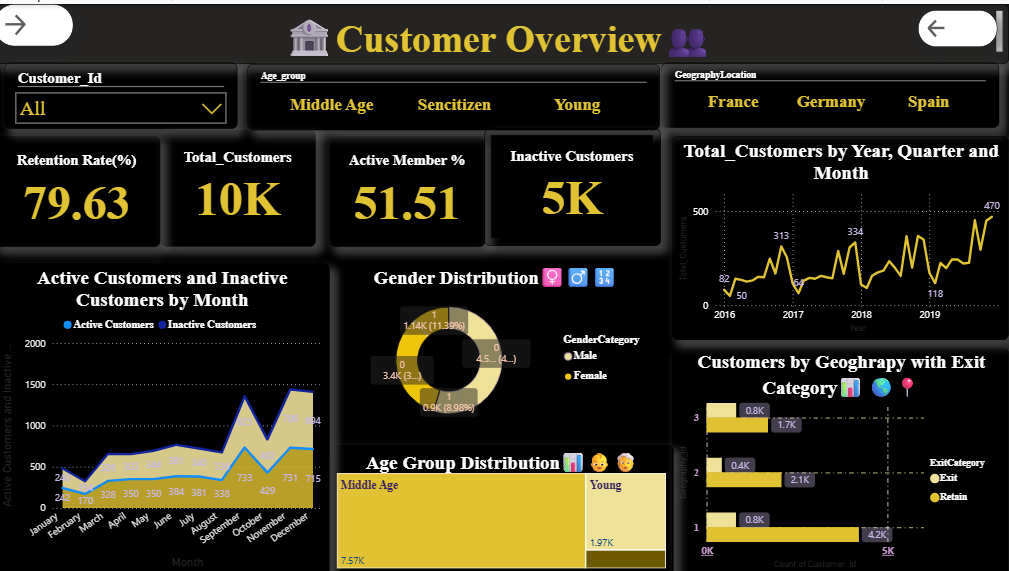

The dashboard page shown, as its layout file describes it:
{"tool":"powerbi","page":{"name":"Customer OverView","canvas":[1280,720],"ordinal":1},"visuals":[{"type":"cardVisual","fields":{"Data":["Bank_Churn.Total_Customers"]},"box":[209.2,159,195.3,146.4],"z":0},{"type":"cardVisual","fields":{"Data":["Bank_Churn.Retention Rate(%)"]},"box":[0,166,209.2,139.5],"z":1000},{"type":"textbox","box":[0,0,1280.3,75.5],"z":2000},{"type":"donutChart","title":"Gender Distribution♀️♂️🔢","fields":{"Category":["Gender.GenderCategory"],"Y":["CountNonNull(Bank_Churn.Customer_Id)"],"Series":["Bank_Churn.Exit_Id"]},"box":[422.6,326.3,417,216.2],"z":3000},{"type":"clusteredBarChart","title":"Customers by Geoghrapy with Exit Category📊 🌎📍","fields":{"Category":["Geography.Geography_Id"],"Y":["CountNonNull(Bank_Churn.Customer_Id)"],"Series":["ExitCustomer.ExitCategory"]},"box":[854.9,432.3,425.4,287.3],"z":4000},{"type":"treemap","title":"Age Group Distribution📊👶🧑🦳","fields":{"Group":["Bank_Churn.Age_group"],"Values":["CountNonNull(Bank_Churn.Customer_Id)"]},"box":[422.6,555.1,432.3,164.6],"z":5000},{"type":"slicer","fields":{"Values":["CustomerInfo.Customer_Id"]},"box":[13.9,73.6,293.1,83.3],"z":6000},{"type":"slicer","fields":{"Values":["Geography.GeographyLocation"]},"box":[840.3,73.6,425,81.9],"z":9000},{"type":"cardVisual","fields":{"Data":["Bank_Churn.Active Member %"]},"box":[422.6,166,195.3,139.5],"z":10000},{"type":"slicer","fields":{"Values":["Bank_Churn.Age_group"]},"box":[319.4,75,519.4,83.3],"z":11000},{"type":"lineChart","fields":{"Y":["Bank_Churn.Total_Customers"],"Category":["Bank_Churn.Bank DOJ.Variation.Date Hierarchy.Year","Bank_Churn.Bank DOJ.Variation.Date Hierarchy.Quarter","Bank_Churn.Bank DOJ.Variation.Date Hierarchy.Month"]},"box":[854.9,166,425.4,256.6],"z":12000},{"type":"stackedAreaChart","fields":{"Y":["Bank_Churn.Active Customers","Bank_Churn.Inactive Customers"],"Category":["Bank_Churn.Bank DOJ.Variation.Date Hierarchy.Month"]},"box":[0,326.3,422.6,393.3],"z":13000},{"type":"cardVisual","fields":{"Data":["Bank_Churn.Inactive Customers"]},"box":[617.8,156.2,221.7,147.8],"z":14000},{"type":"actionButton","box":[0,0,100.2,53.5],"z":15000},{"type":"actionButton","box":[1165,6.9,100.2,46.7],"z":16000}]}

Visuals, with their boxes in screenshot pixels (x1, y1, x2, y2), scaled from the page's 1280x720 canvas onto the 1009x571 screenshot:
cardVisual - Bank_Churn.Total_Customers: (x1=165, y1=126, x2=319, y2=242)
cardVisual - Bank_Churn.Retention Rate(%): (x1=0, y1=132, x2=165, y2=242)
textbox: (x1=0, y1=0, x2=1008, y2=60)
"Gender Distribution♀️♂️🔢" donutChart: (x1=333, y1=259, x2=662, y2=430)
"Customers by Geoghrapy with Exit Category📊 🌎📍" clusteredBarChart: (x1=674, y1=343, x2=1008, y2=570)
"Age Group Distribution📊👶🧑🦳" treemap: (x1=333, y1=440, x2=674, y2=570)
slicer - CustomerInfo.Customer_Id: (x1=11, y1=58, x2=242, y2=124)
slicer - Geography.GeographyLocation: (x1=662, y1=58, x2=997, y2=123)
cardVisual - Bank_Churn.Active Member %: (x1=333, y1=132, x2=487, y2=242)
slicer - Bank_Churn.Age_group: (x1=252, y1=59, x2=661, y2=126)
lineChart - Bank_Churn.Total_Customers x Bank_Churn.Bank DOJ.Variation.Date Hierarchy.Year: (x1=674, y1=132, x2=1008, y2=335)
stackedAreaChart - Bank_Churn.Active Customers x Bank_Churn.Inactive Customers: (x1=0, y1=259, x2=333, y2=570)
cardVisual - Bank_Churn.Inactive Customers: (x1=487, y1=124, x2=662, y2=241)
actionButton: (x1=0, y1=0, x2=79, y2=42)
actionButton: (x1=918, y1=5, x2=997, y2=43)
